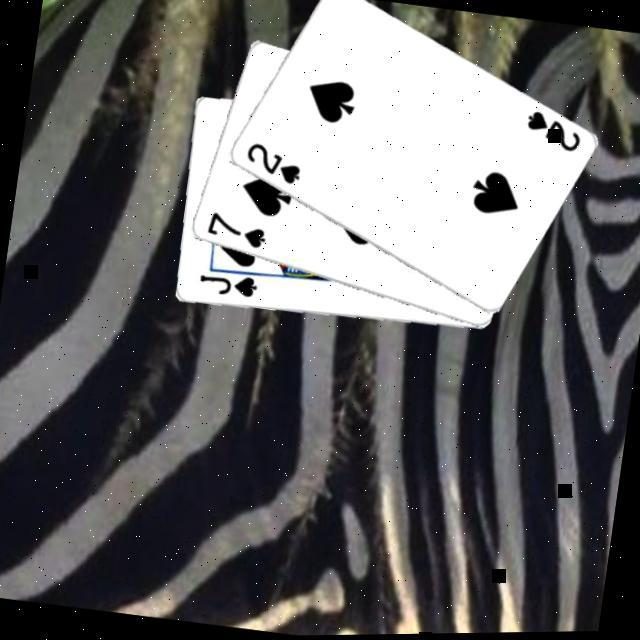2S: (521, 108, 588, 160), (240, 140, 307, 191)
7S: (203, 209, 271, 255)
JS: (196, 270, 261, 305)
